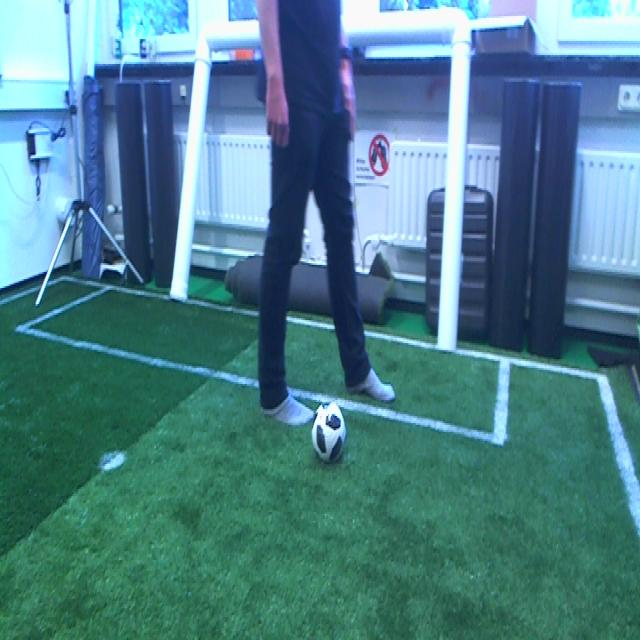ball: (310, 398, 345, 461)
goalpost: (444, 23, 472, 350), (176, 57, 212, 300)
